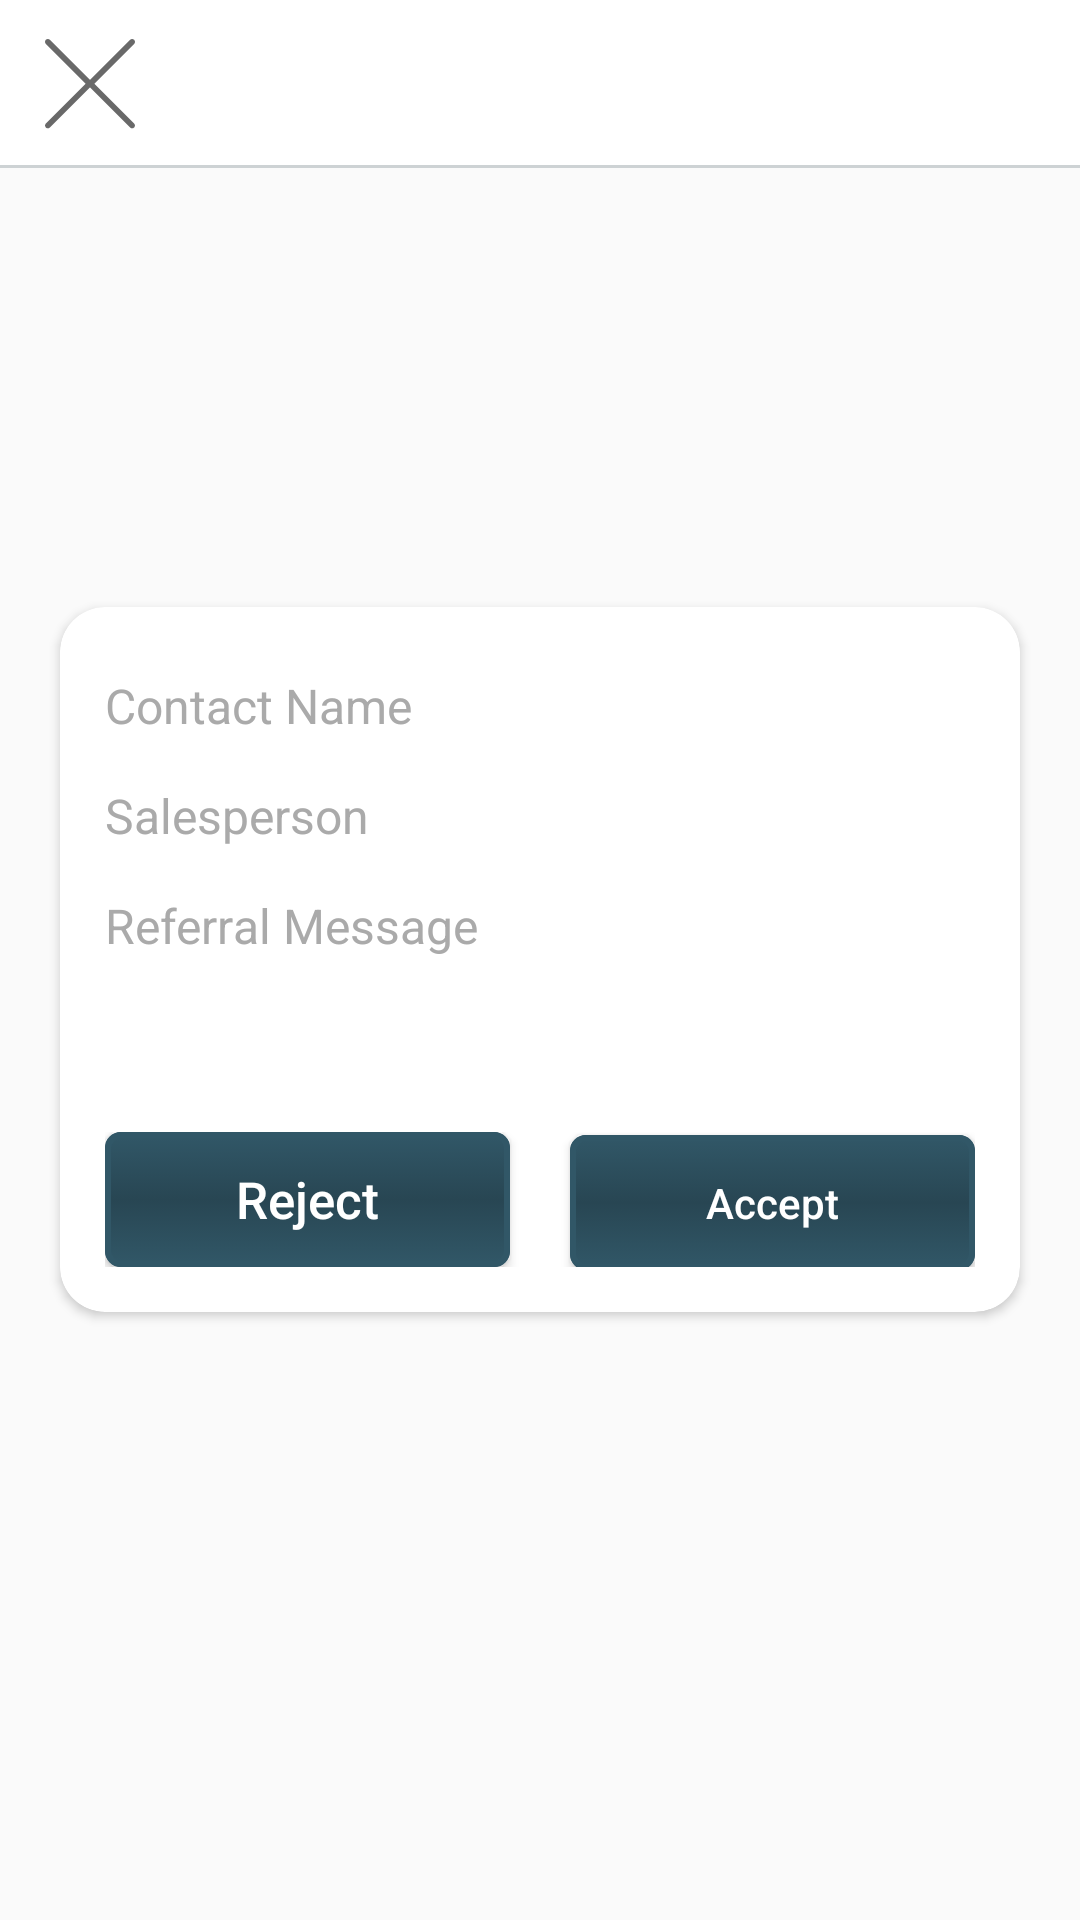

Icon click points for this 1080px×1920px phone screenshot, format (x=x, y=y):
Button toclose dialog of creating new appointment: (x=90, y=84)
